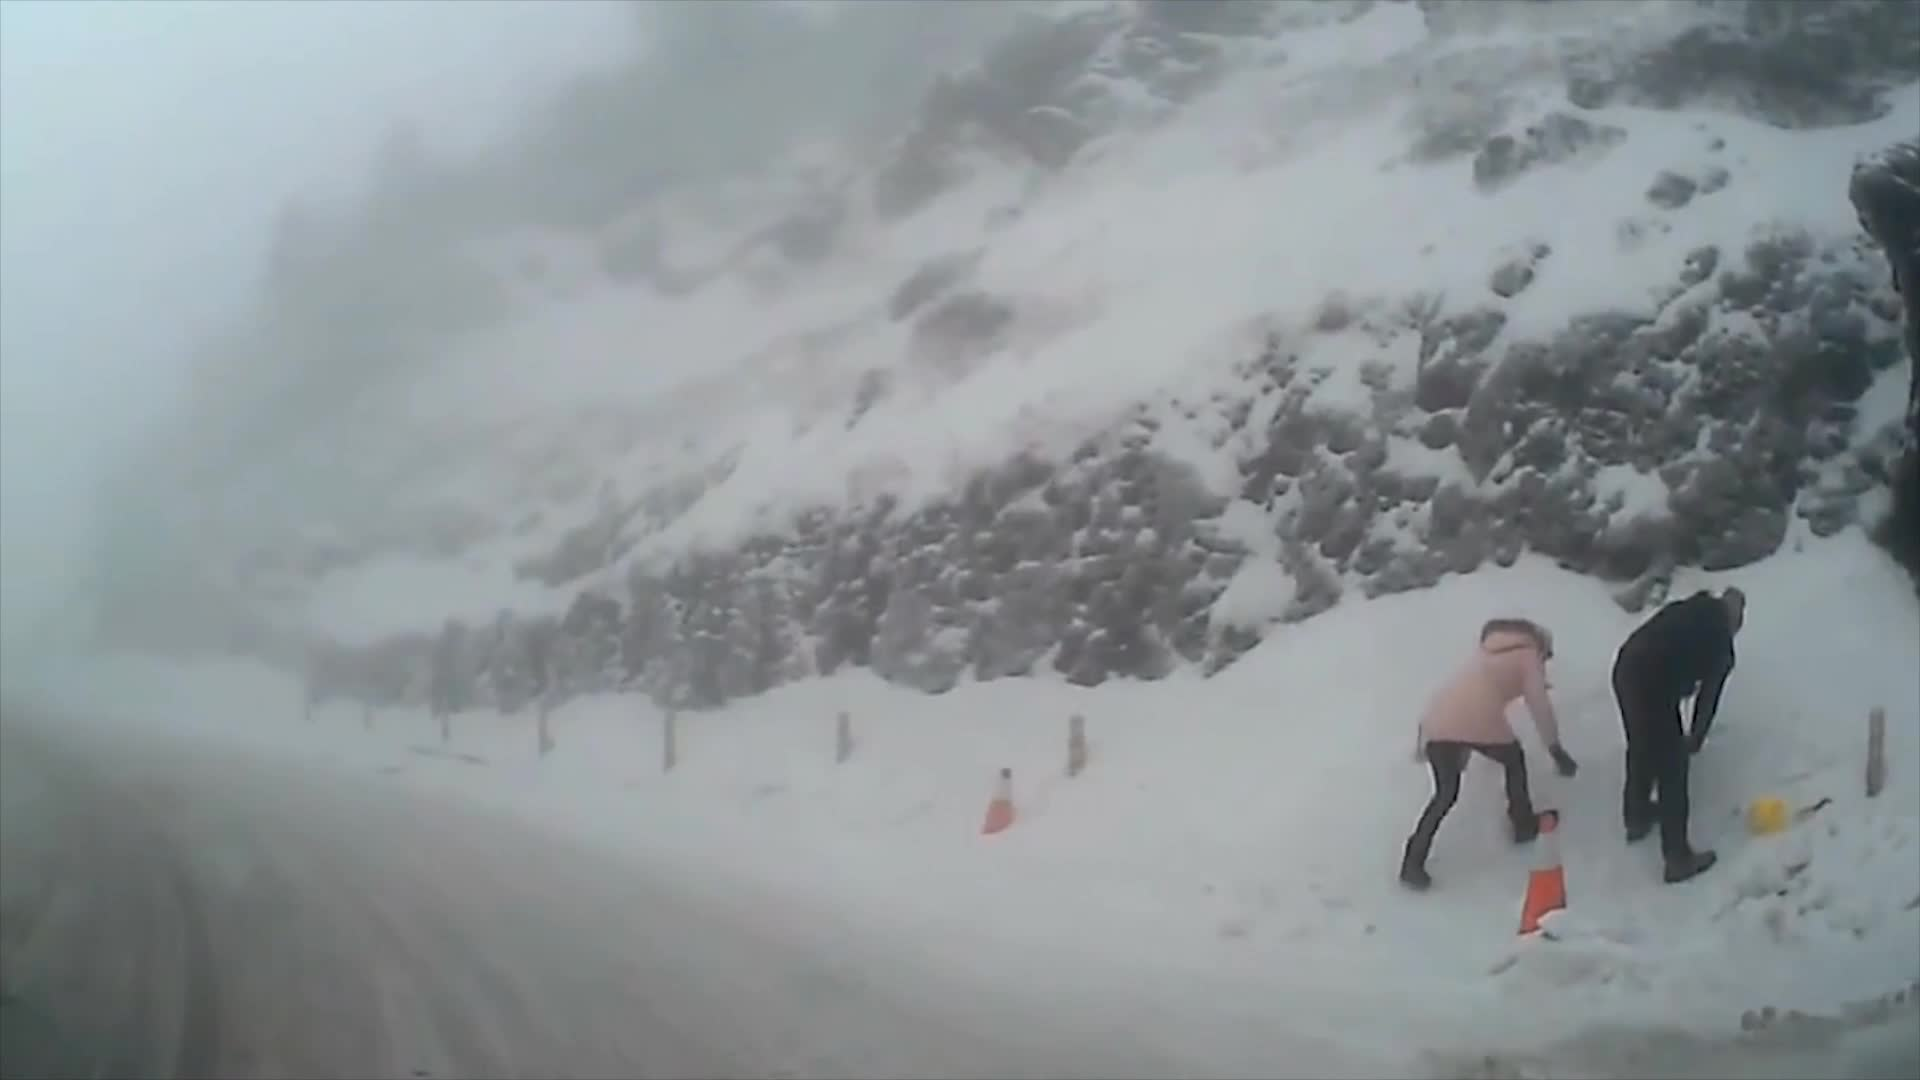pedestrian: (1398, 619, 1573, 889), (1613, 591, 1746, 889)
